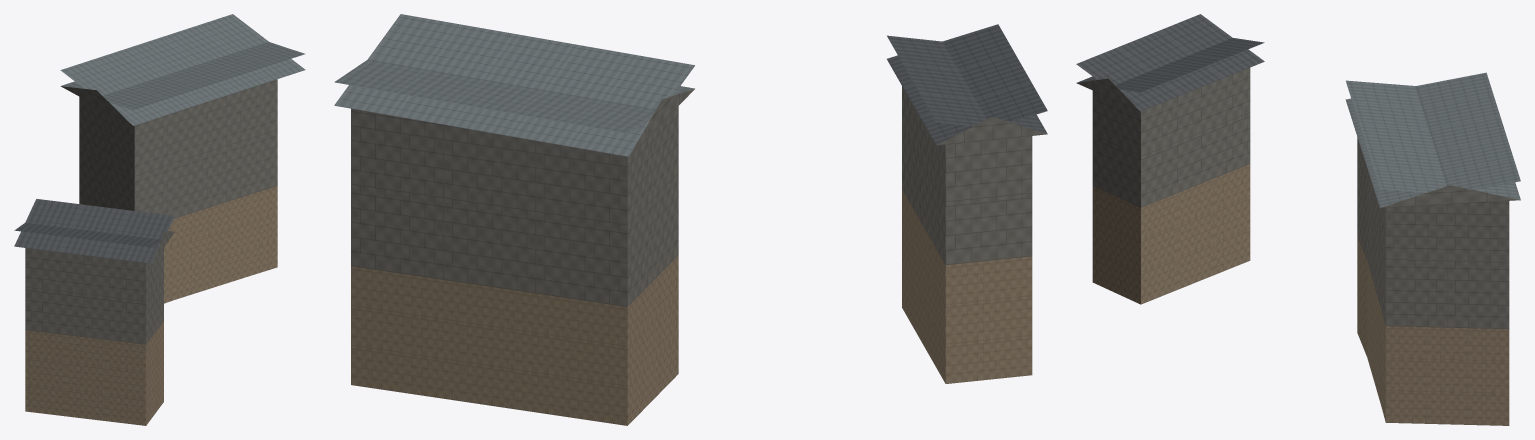
Rendered from bld_c5_9_482.gltf.
3 renders of one model, left to right at view 1: azimuth 30°, elevation 25°; view 2: azimuth 150°, elevation 25°; view 3: azimuth 270°, elevation 25°, orthographic. The views are drawn at different scales.
Visible parts, largest first — view 1: bld_c5_9_482; view 2: bld_c5_9_482; view 3: bld_c5_9_482.
Part boxes in pixels (bbox=[...]): bld_c5_9_482: bbox=[14, 14, 305, 425]; bld_c5_9_482: bbox=[334, 14, 1047, 425]; bld_c5_9_482: bbox=[1076, 14, 1520, 425].
Size of the model in its own units: 24.09 by 13.5 by 21.25.
Materials: 5 (5 with a texture image).
